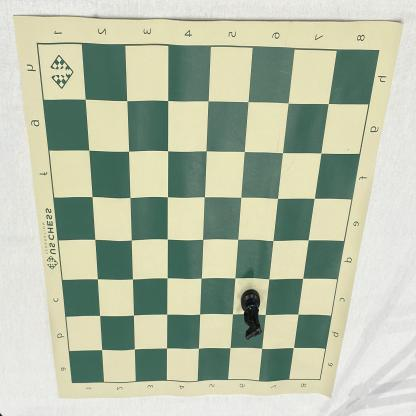black-knight: (240, 288, 262, 342)
